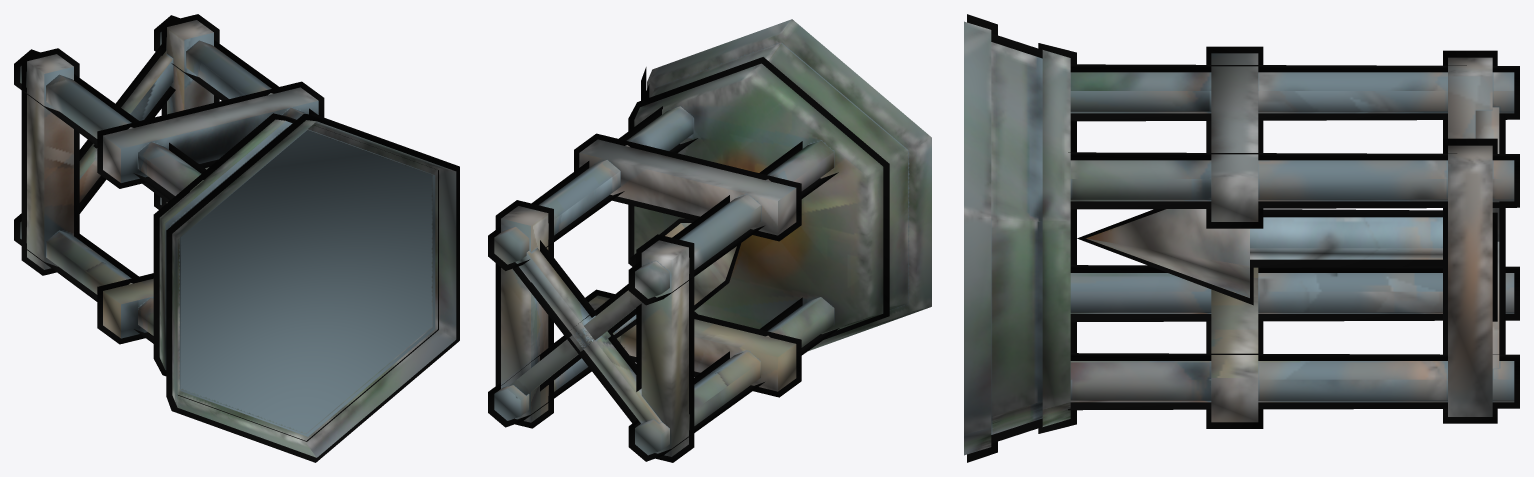
Rendered from drill.fbx.
3 renders of one model, left to right at view 1: azimuth 30°, elevation 25°; view 2: azimuth 150°, elevation 25°; view 3: azimuth 270°, elevation 25°, orthographic. The views are drawn at different scales.
Parts seen in each view (by area): view 1: Building.005; view 2: Building.005; view 3: Building.005.
Part boxes in pixels (x1,y1,x2,y2): Building.005: (14, 14, 459, 462); Building.005: (488, 19, 931, 462); Building.005: (964, 14, 1519, 462).
Bounding box in the file's own units: 78.06 × 90.14 × 101.
